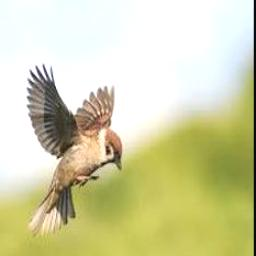Sparrow: (27, 64, 123, 238)
